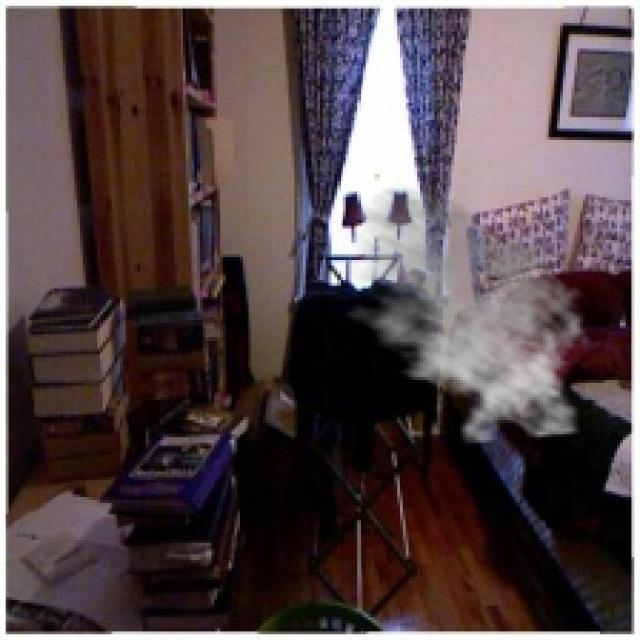smoke: (332, 186, 594, 446)
